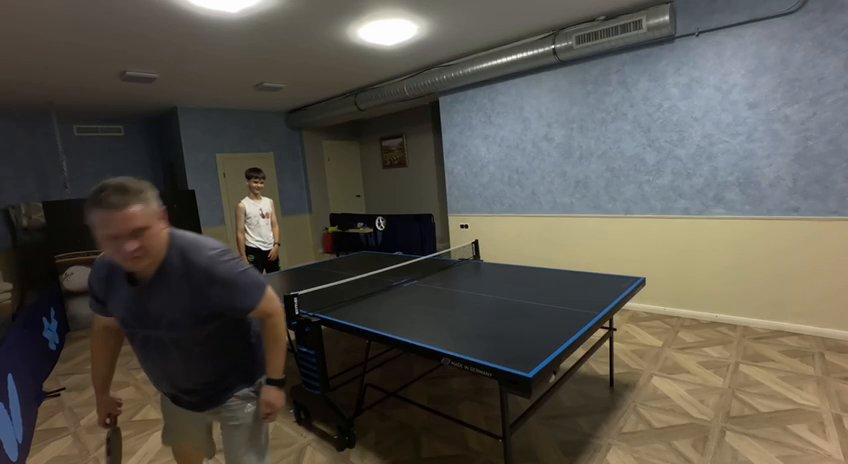Net: (285, 240, 481, 320)
Player1: (236, 167, 280, 271)
Player2: (85, 176, 285, 463)
Table: (256, 252, 644, 374)
